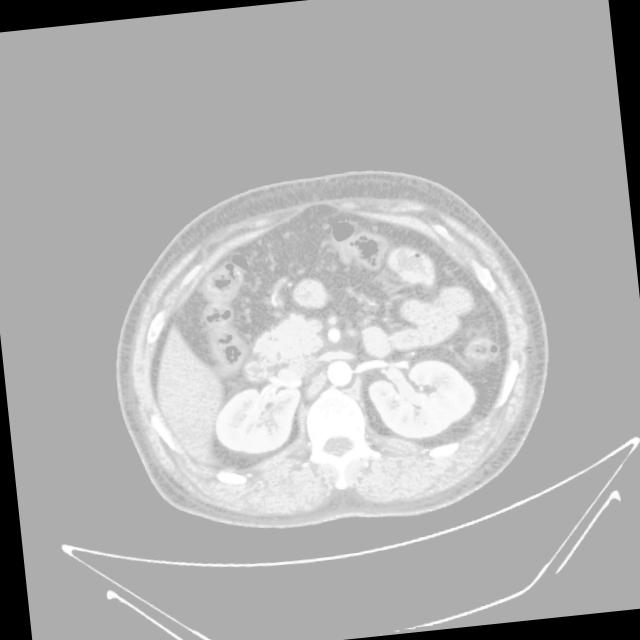NORMAL: (99, 158, 566, 531)
